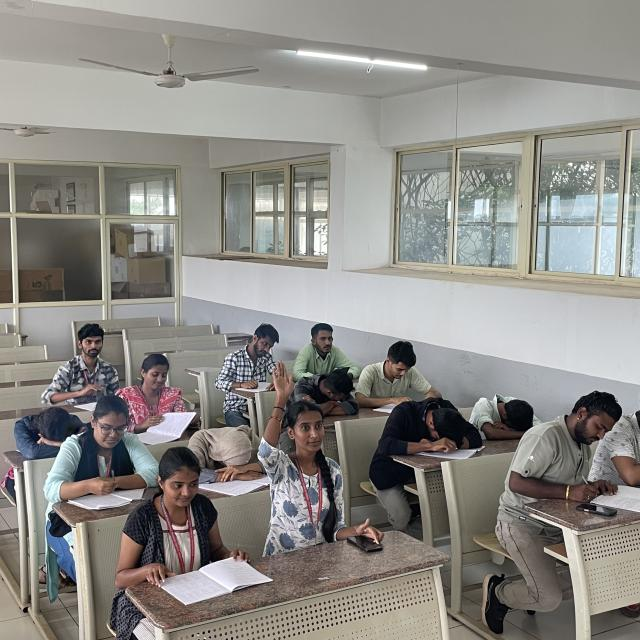Hand Rising: (260, 353, 344, 528)
Reading: (121, 449, 246, 595), (351, 339, 436, 416), (124, 351, 198, 438)
Sleeping: (382, 392, 483, 466), (190, 414, 268, 481), (9, 405, 84, 460), (470, 389, 544, 439)
Writing: (511, 388, 632, 505), (58, 400, 155, 514)
